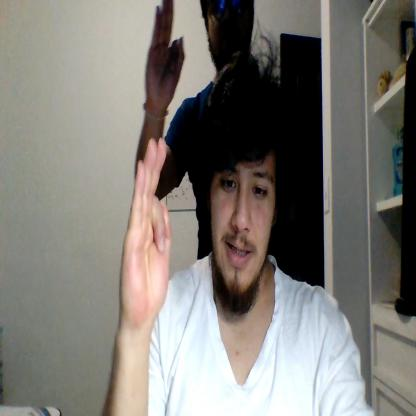F: (119, 135, 171, 322), (146, 0, 186, 104)
